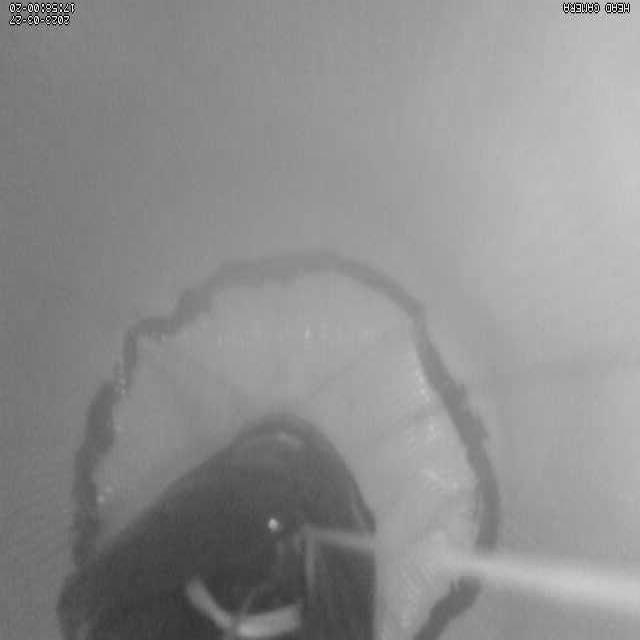red-circle: (71, 252, 502, 640)
